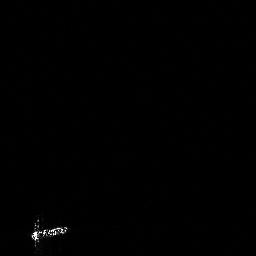ship: (32, 226, 68, 240)
